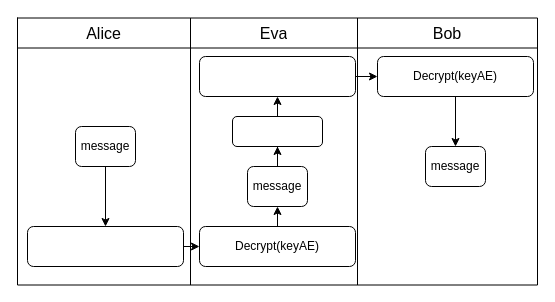
Some shapes in this 555 by 302 pixel diagram are drawn without their labels. The shapes that lost their labels are listed below. From the top down, each one's centre as x and y in pixels, then its label:
At [277,76]: "Encrypt(keyEB)".
At [277,131]: "changes".
At [105,246]: "Encrypt(keyAE)".
